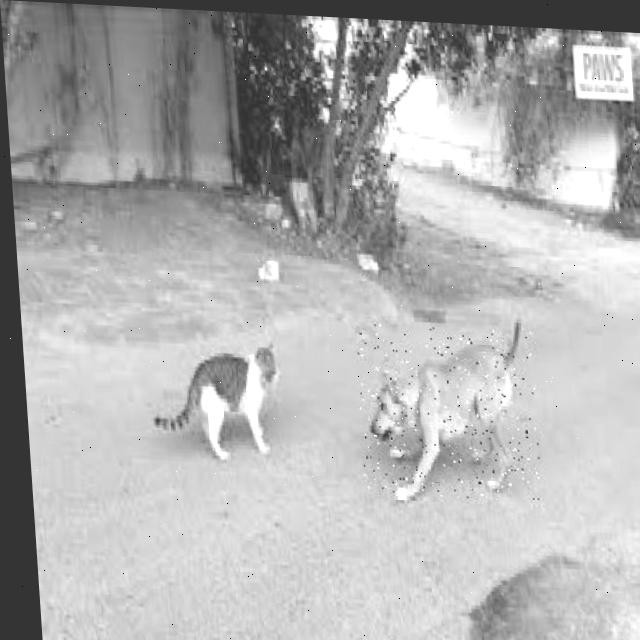Dog: (354, 323, 544, 504)
